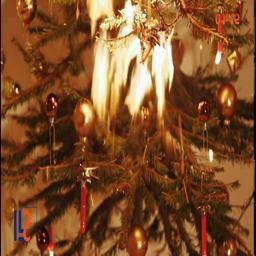fire: (88, 0, 175, 120)
